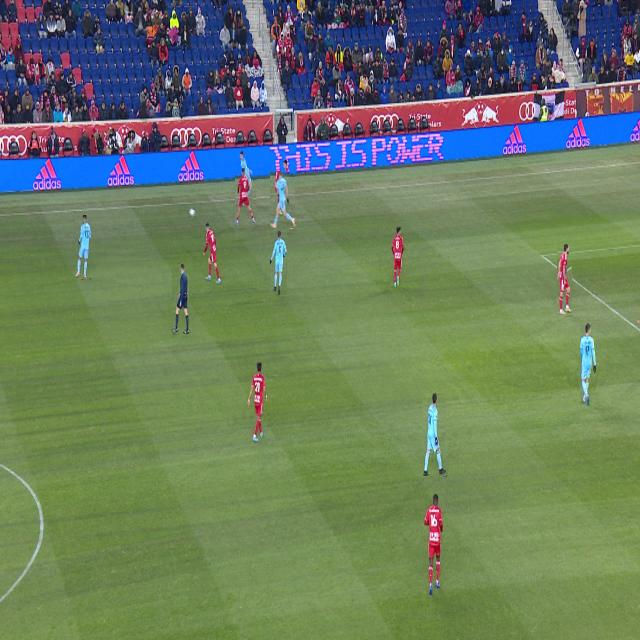football: (189, 208, 196, 217)
player: (424, 494, 443, 595), (424, 394, 446, 476), (247, 362, 268, 442), (271, 172, 295, 228), (580, 324, 596, 405), (235, 169, 256, 226), (203, 223, 221, 284), (270, 232, 287, 295), (558, 245, 572, 315), (76, 215, 91, 278), (392, 227, 404, 288), (239, 151, 248, 197), (283, 160, 291, 195), (283, 210, 287, 216), (287, 196, 289, 205), (247, 203, 249, 207)
referee: (172, 264, 189, 334)
